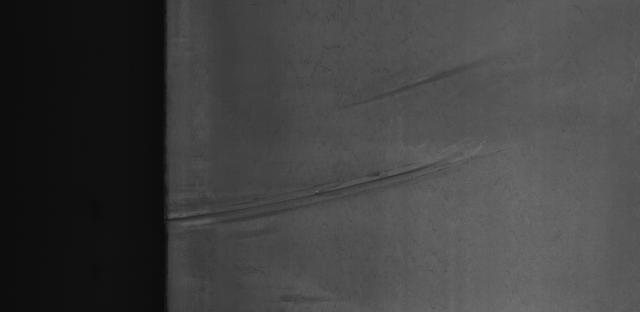crease: (166, 134, 486, 240)
